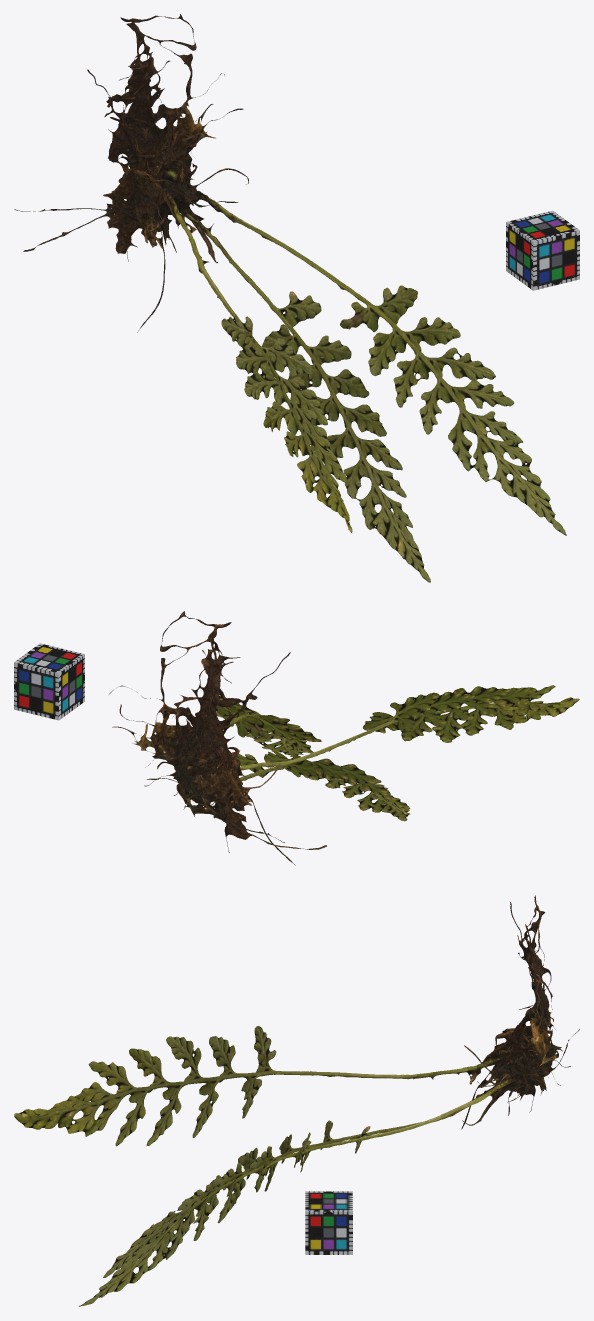
File: cc0__spleenwort_asplenium_sarelii.glb
3 renders of one model, top to bottom at view 1: azimuth 30°, elevation 25°; view 2: azimuth 150°, elevation 25°; view 3: azimuth 270°, elevation 25°, orthographic. The views are drawn at different scales.
Parts seen in each view (by area): view 1: QS1500-W17-1-1_1, _Cube_0; view 2: QS1500-W17-1-1_1, _Cube_0; view 3: QS1500-W17-1-1_1, _Cube_0.
Boxes of the visible parts, x1,y1,x2,y2 form: QS1500-W17-1-1_1: [14, 14, 566, 582]; _Cube_0: [506, 210, 579, 290]; QS1500-W17-1-1_1: [109, 611, 579, 865]; _Cube_0: [14, 643, 84, 720]; QS1500-W17-1-1_1: [14, 895, 579, 1306]; _Cube_0: [305, 1191, 352, 1254].
Bounding box in the file's own units: 0.0913 × 0.082 × 0.1187.
2 materials, 2 textured.
